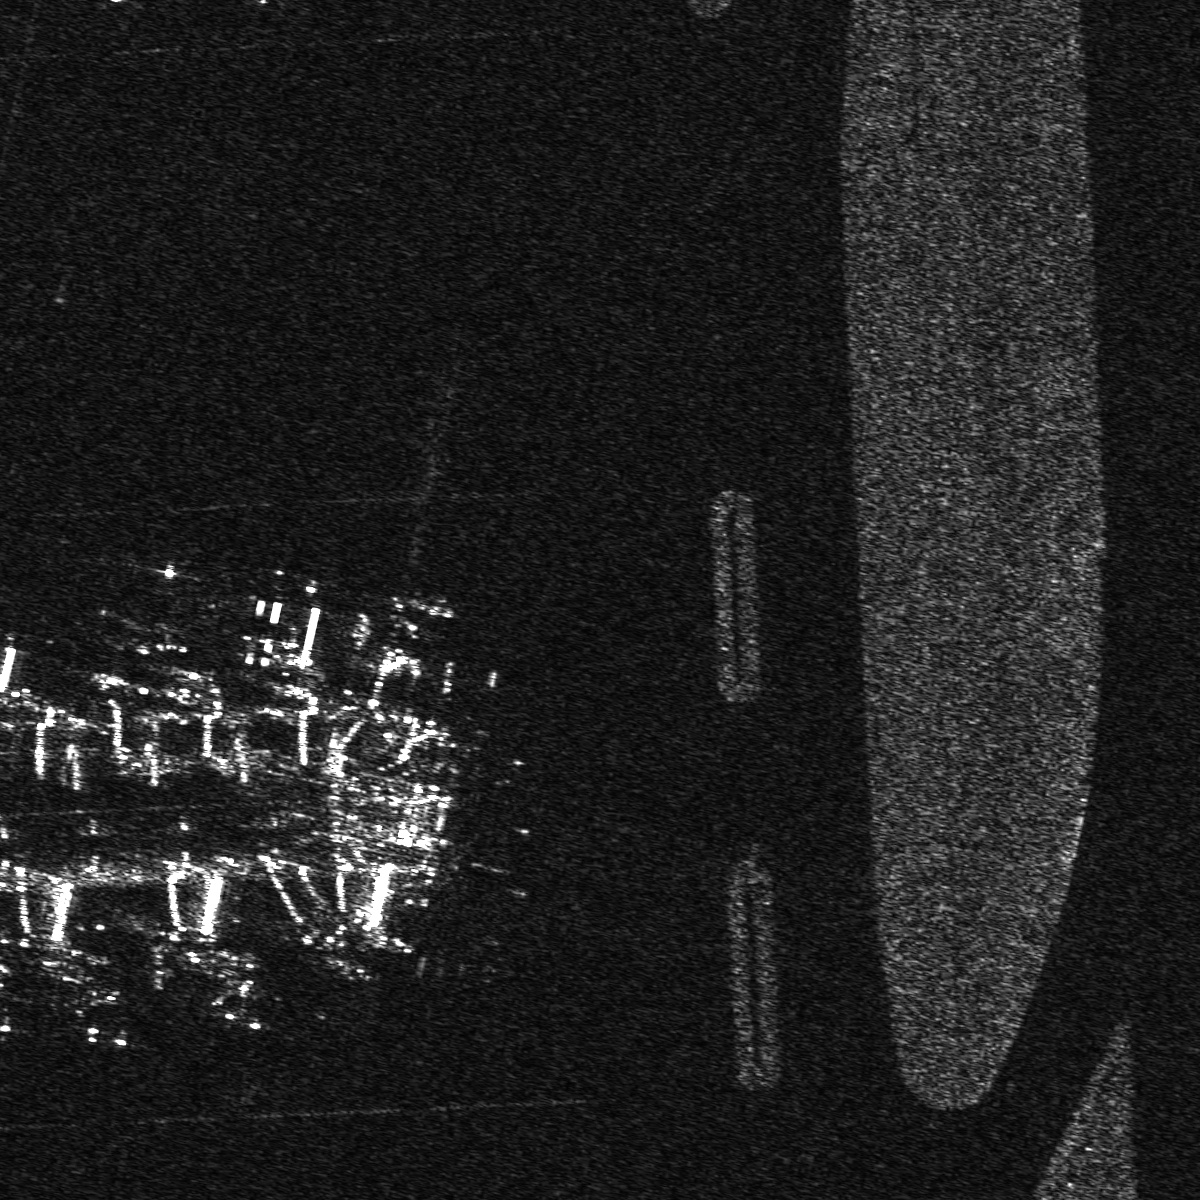Boeing787: (65, 955, 129, 1045)
other: (209, 957, 281, 1031)
